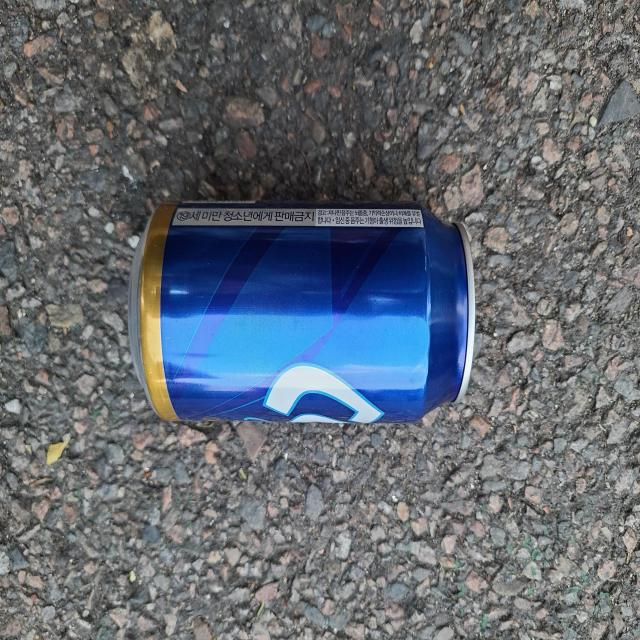can: (128, 202, 476, 423)
